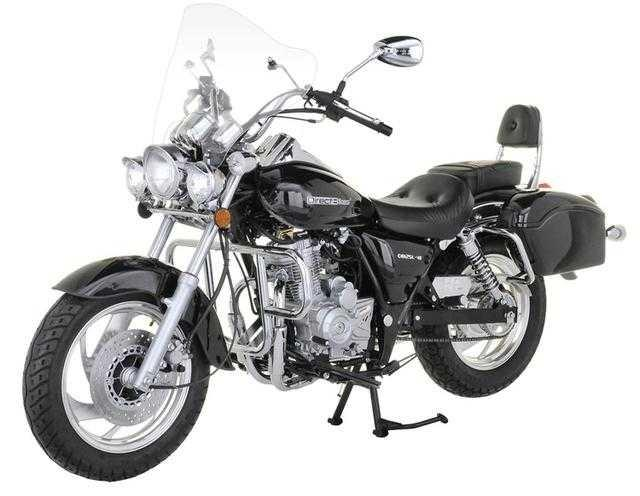motorbike: (17, 19, 614, 480)
